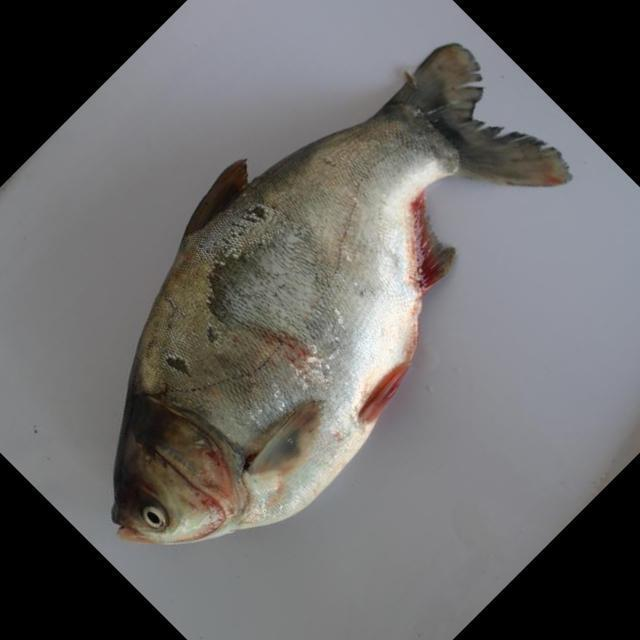Silver Carp: (109, 25, 574, 552)
